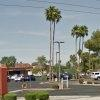Tree: (65, 15, 100, 67)
